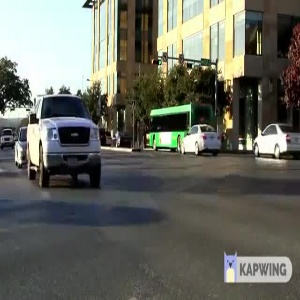bus: (145, 105, 183, 152)
car: (245, 121, 300, 160), (179, 124, 221, 156)
truck: (26, 90, 101, 194)
